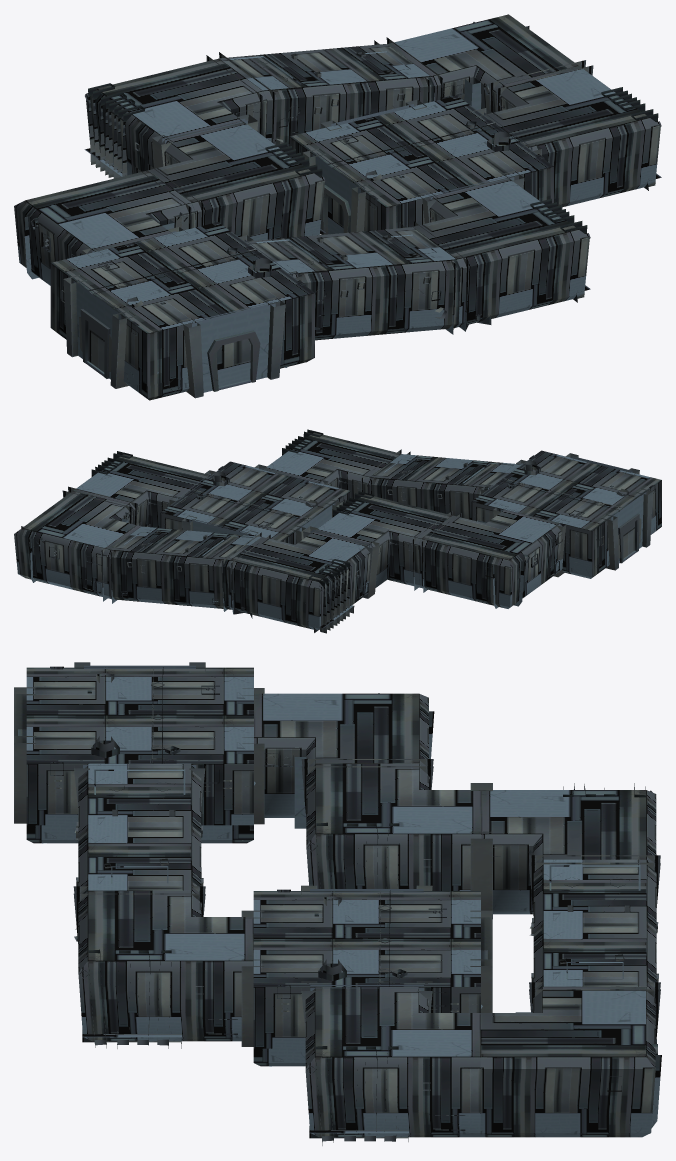
The model's file is Combined_Mesh_root_scene__4_e0ea2853__zombies2_diffuse_03_64bb9bc2_c1f257.obj.
The picture shows the model from 3 angles, top to bottom: view 1: azimuth 30°, elevation 25°; view 2: azimuth 150°, elevation 25°; view 3: azimuth 270°, elevation 25°; orthographic projection. The views are drawn at different scales.
Size of the model in its own units: 76.84 by 12.64 by 57.04.
Materials: 171 (171 with a texture image).
